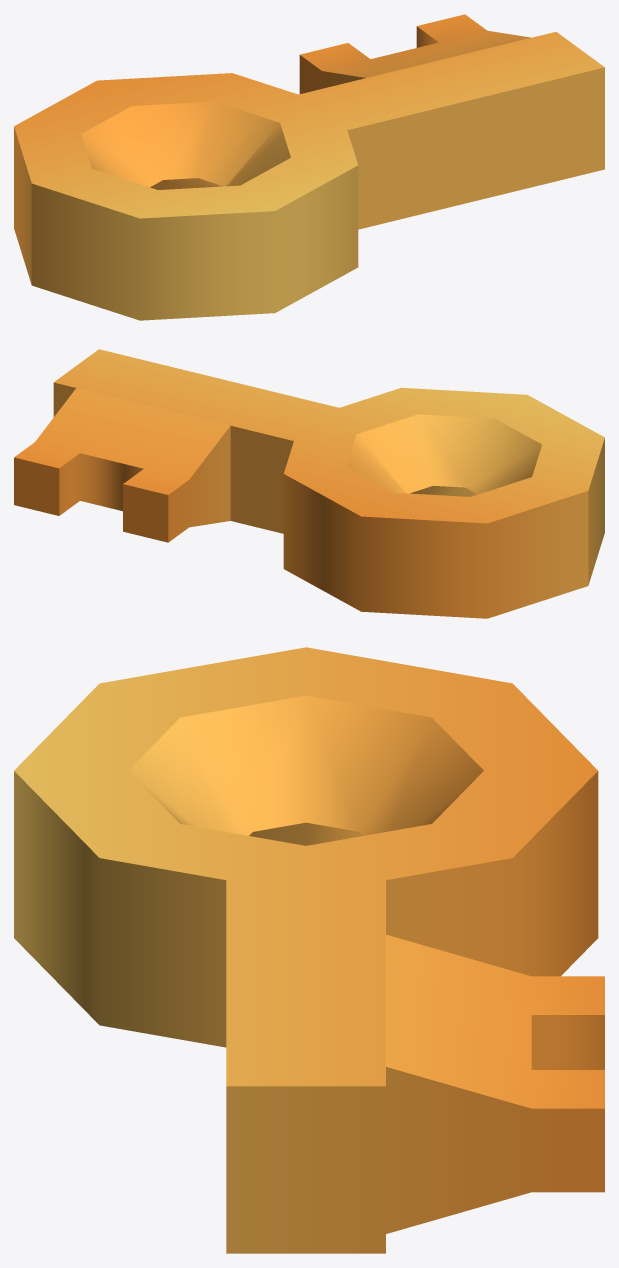
File: key.obj
The picture shows the model from 3 angles, top to bottom: view 1: azimuth 30°, elevation 25°; view 2: azimuth 150°, elevation 25°; view 3: azimuth 270°, elevation 25°; orthographic projection. The views are drawn at different scales.
Size of the model in its own units: 0.0615 by 0.0109 by 0.035.
Materials: 1 (1 with a texture image).
